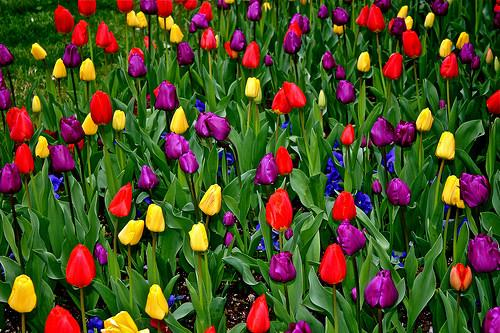tulip: (65, 243, 97, 289), (263, 188, 296, 230), (316, 241, 348, 283), (9, 273, 36, 315), (108, 181, 135, 221), (102, 311, 151, 333), (46, 304, 82, 333), (143, 283, 173, 317), (366, 117, 397, 146), (331, 191, 358, 223), (9, 108, 35, 140), (0, 163, 25, 196), (398, 29, 426, 57), (284, 76, 307, 110), (449, 262, 473, 294), (438, 127, 458, 165), (153, 81, 179, 109), (382, 48, 404, 81), (12, 141, 36, 171), (88, 91, 111, 122), (48, 143, 76, 168), (143, 203, 167, 232), (199, 183, 222, 213), (187, 222, 208, 254), (239, 38, 260, 69), (53, 7, 76, 34), (366, 2, 386, 33), (125, 51, 148, 77), (58, 116, 83, 139), (440, 51, 459, 80), (198, 24, 218, 51), (416, 107, 435, 132), (276, 145, 293, 172), (95, 19, 111, 46), (341, 122, 356, 149), (78, 0, 98, 14), (116, 0, 133, 11), (82, 90, 82, 91)
